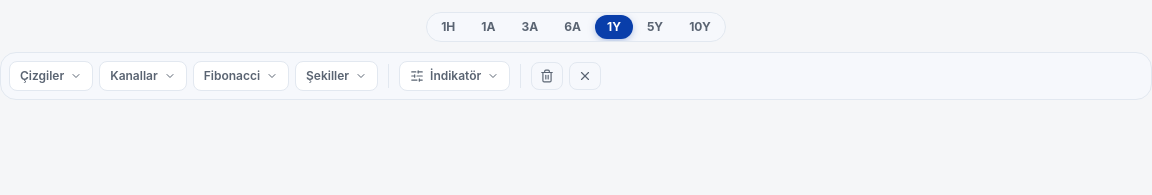
Test case: FxChart — çizim aracı etkileşimi › "Şekiller" grubuna tıklayınca alt araç (Dikdörtgen/Çember) dropdown'u açılır
Click the button "Şekiller" at (336, 76), box [295,61,378,91]
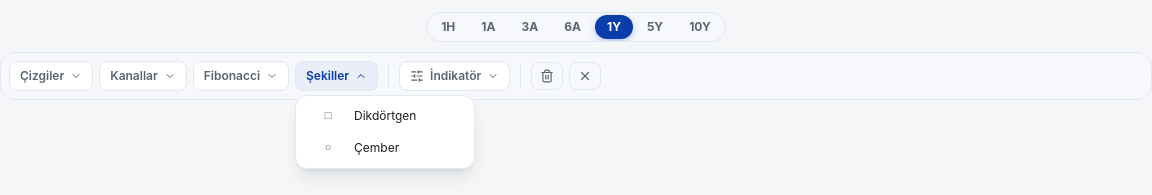
Expected: the button "□ Dikdörtgen" is shown, [300,100,470,132]
Expected: the button "○ Çember" is shown, [300,132,470,164]
